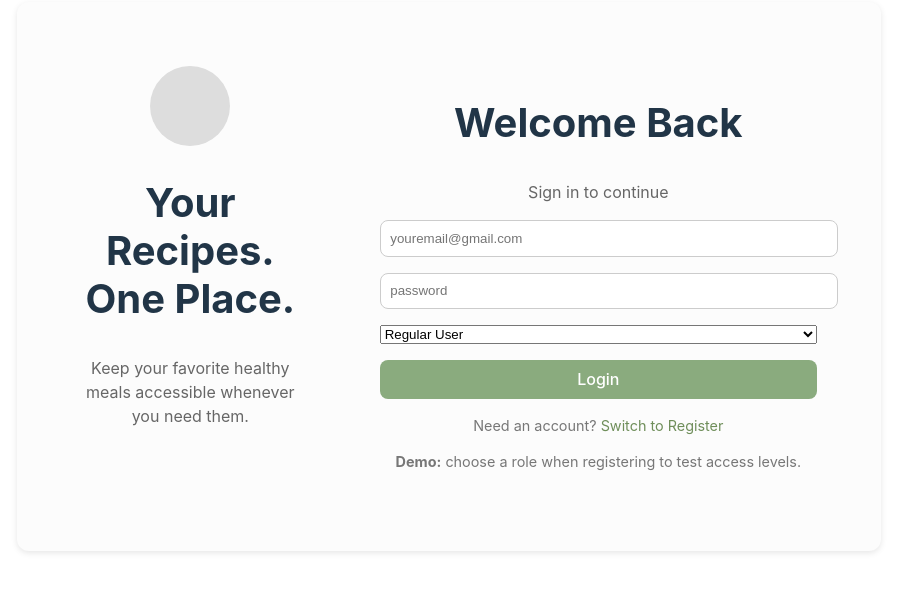
Test: Login page › submits register flow and shows success feedback
Click the button "Switch to Register": {"x": 662, "y": 426} [601,415,723,436]
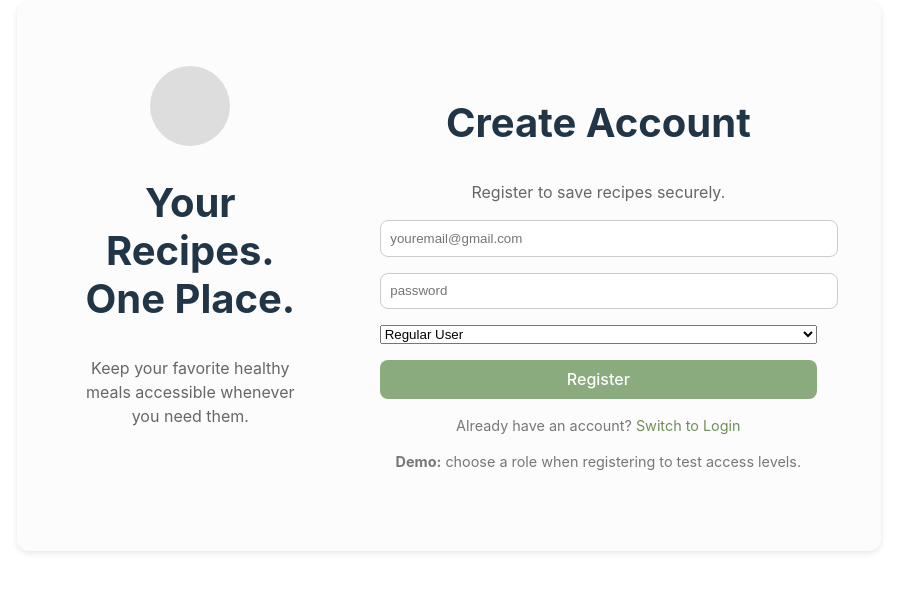
In the field with placeholder "youremail@gmail.com": {"x": 609, "y": 238} [380,220,838,257], type "test@example.com"
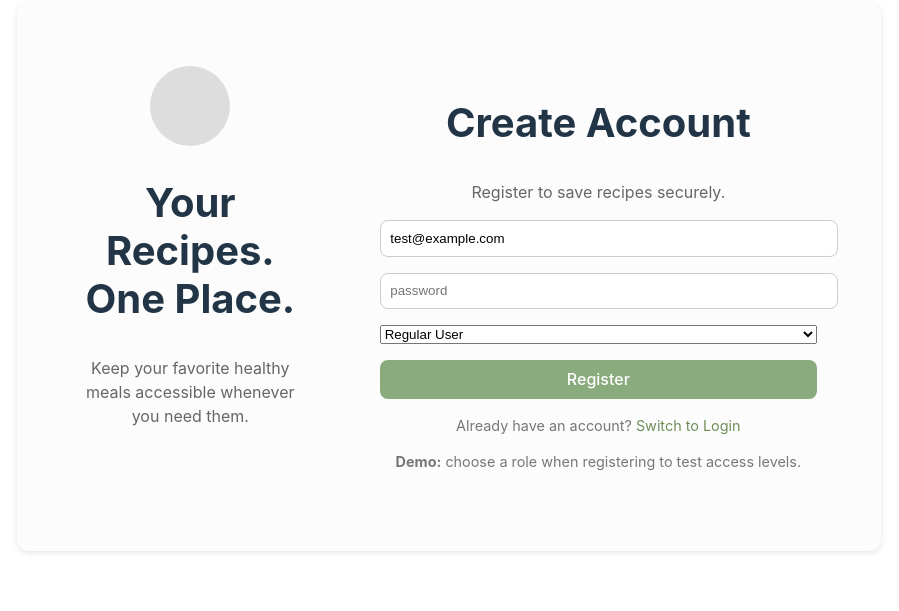
In the password field with placeholder "password": {"x": 609, "y": 291} [380,273,838,309], type "pass1234"
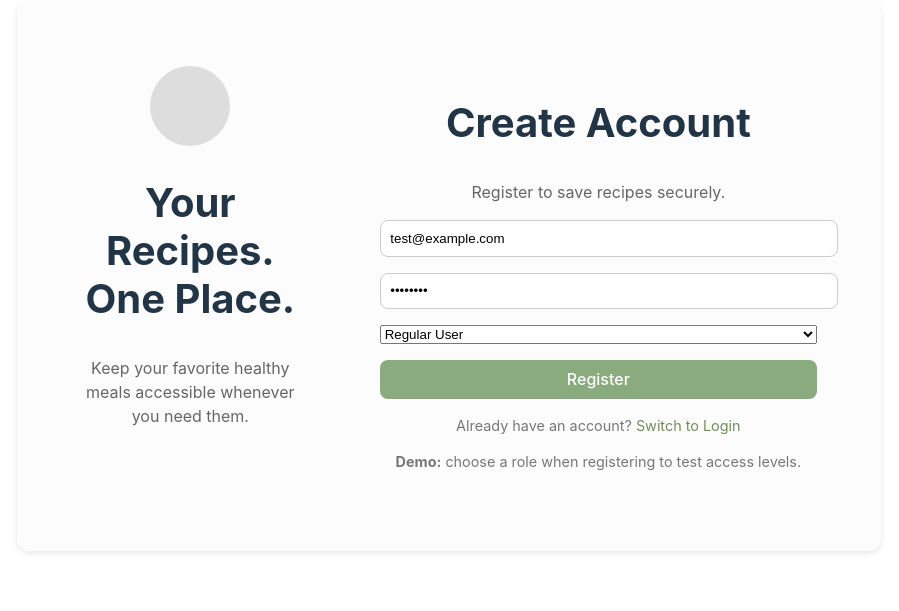
Click the button "Register": {"x": 598, "y": 379} [380,360,817,399]
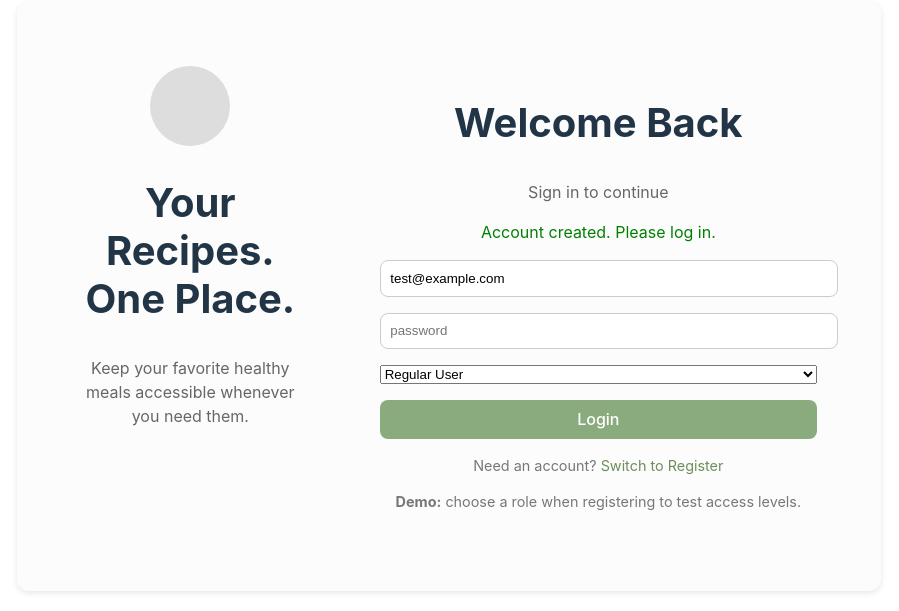
Expected: the text "Account created. Please log in." is shown, [481,222,716,242]
